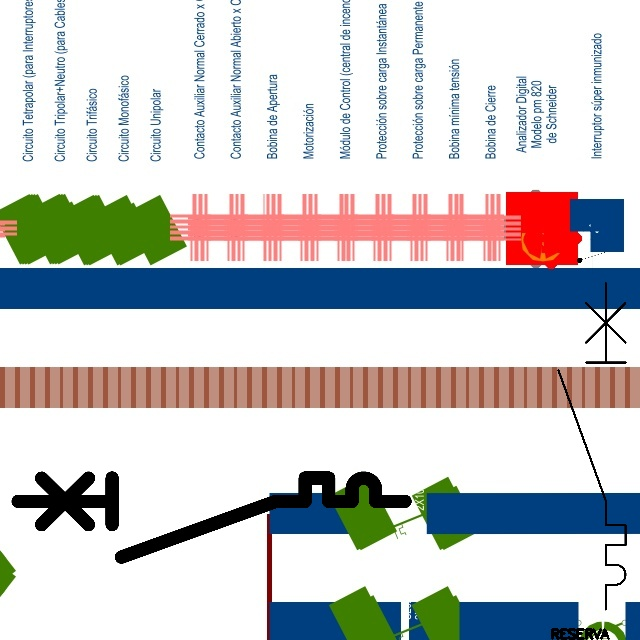interruptor_termomagnetico: (8, 468, 415, 567), (550, 274, 634, 618)
